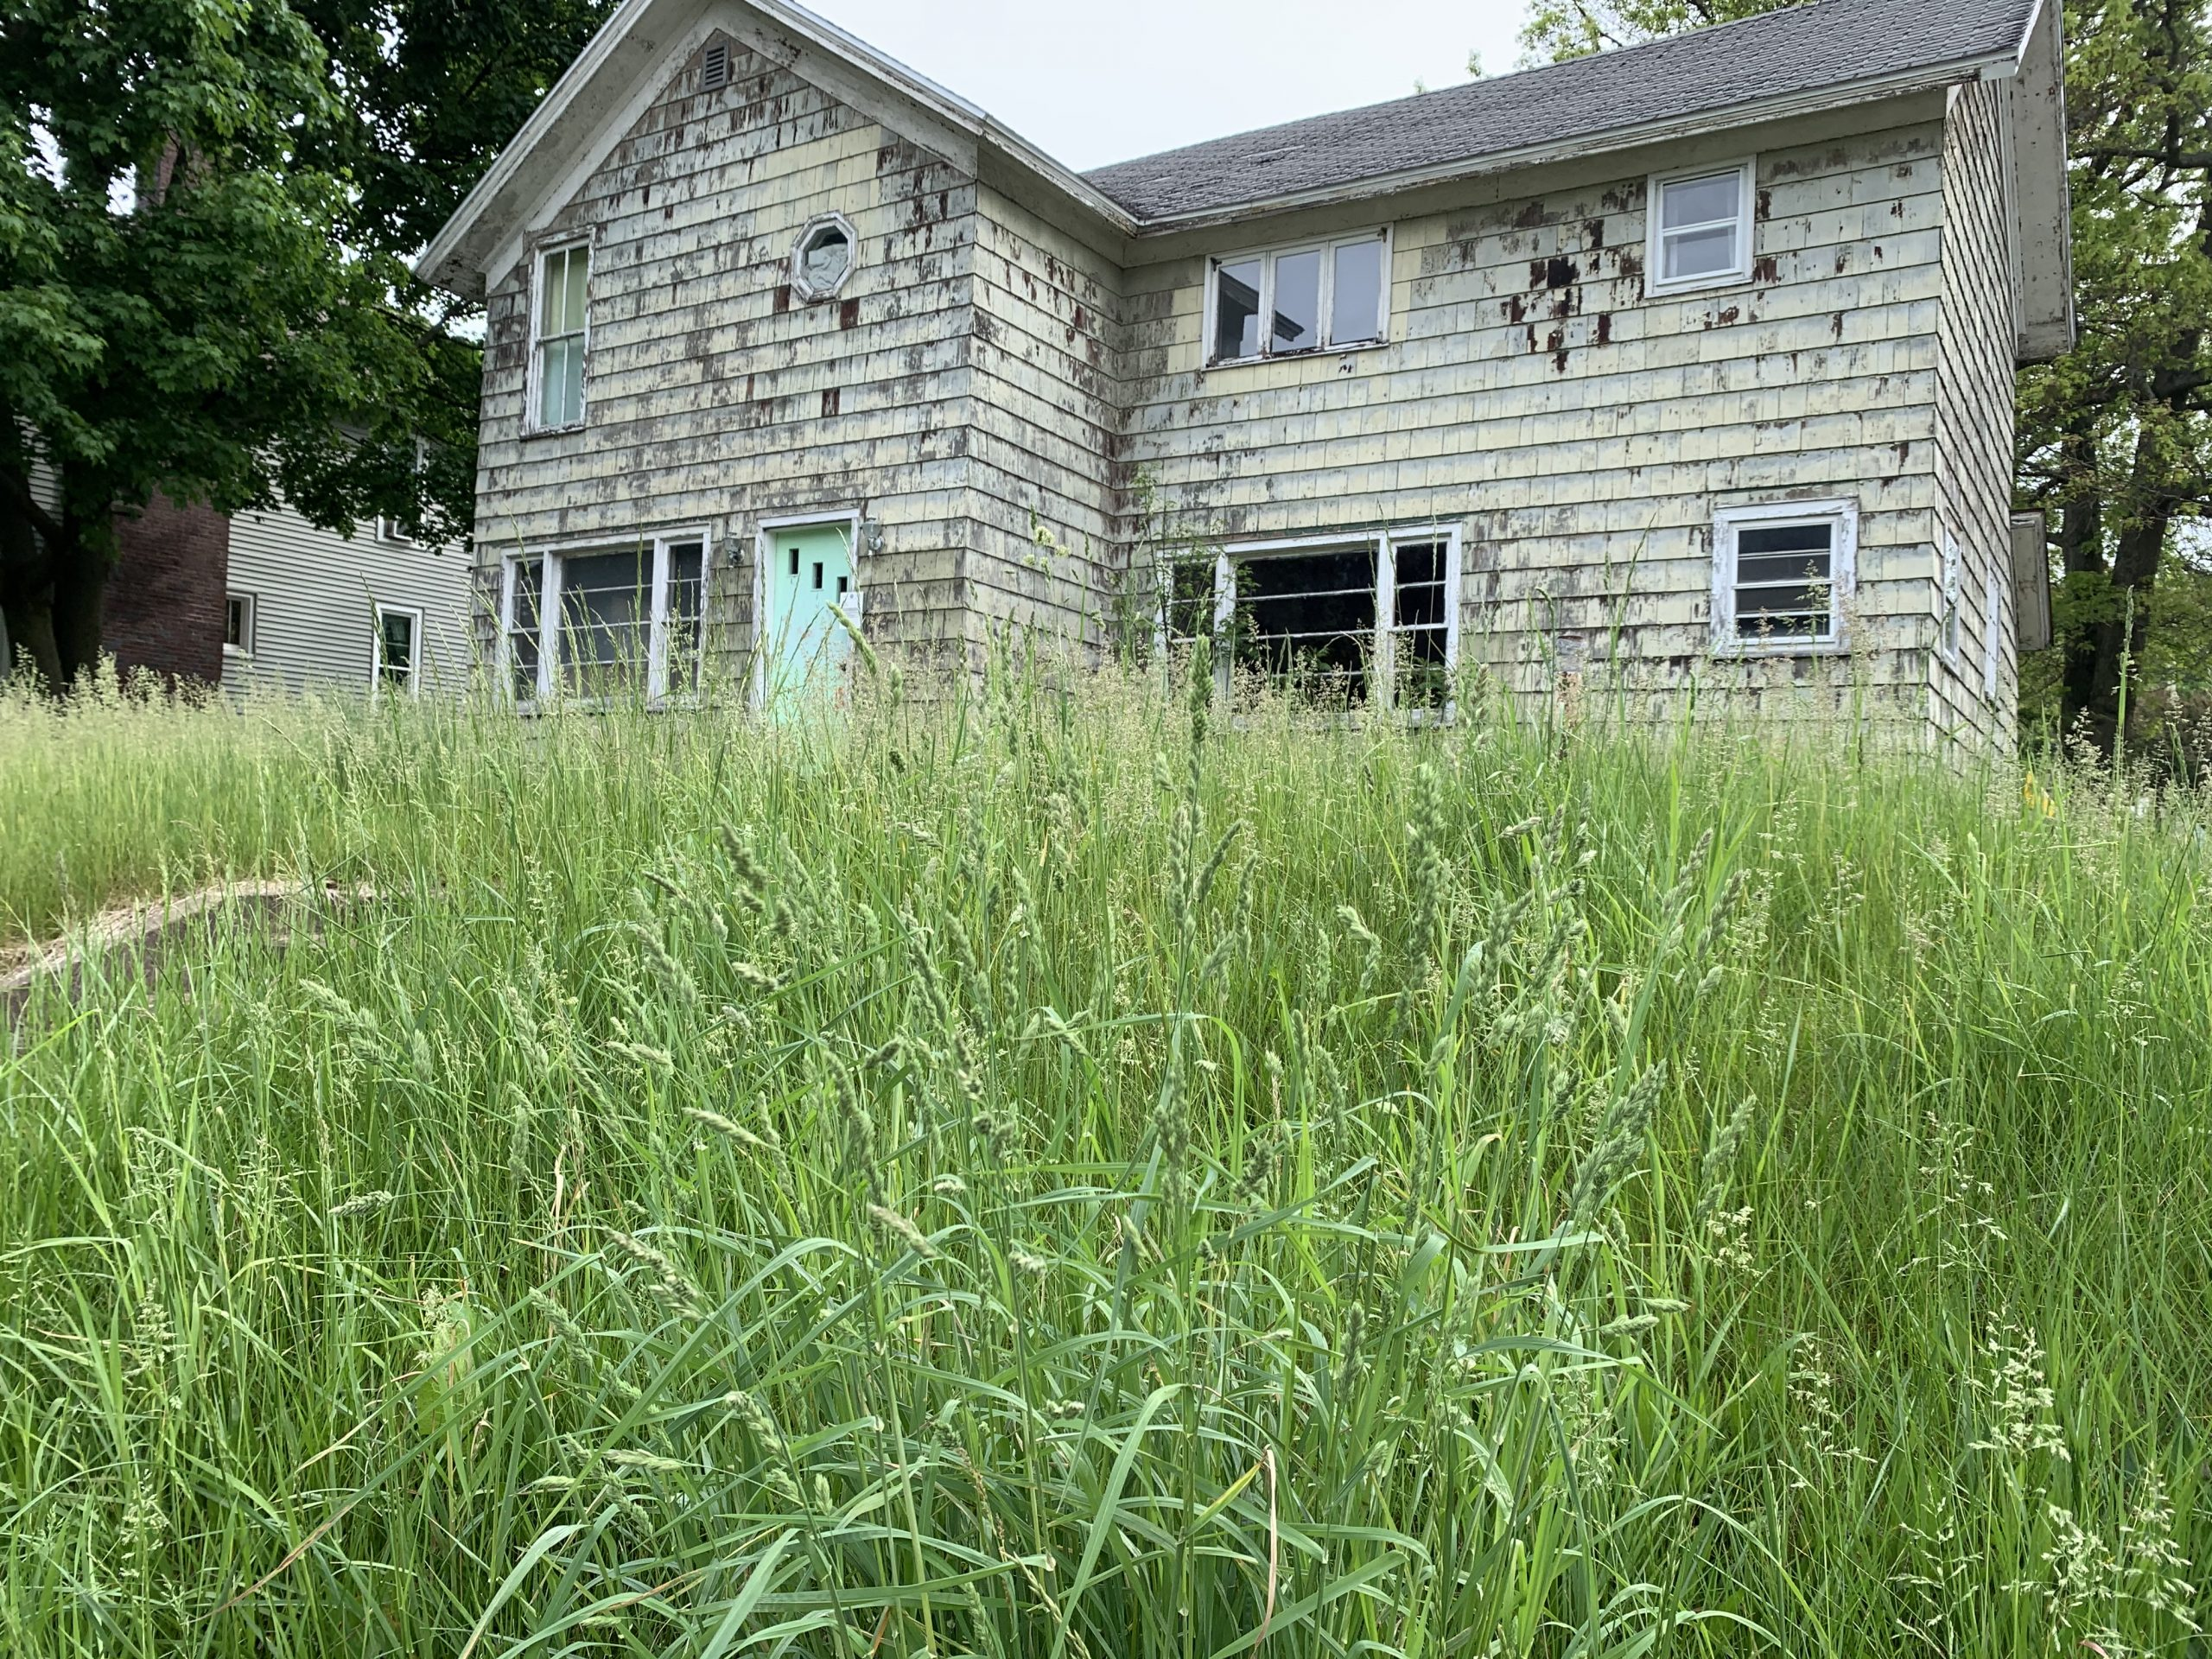grass: (7, 725, 2212, 1659)
